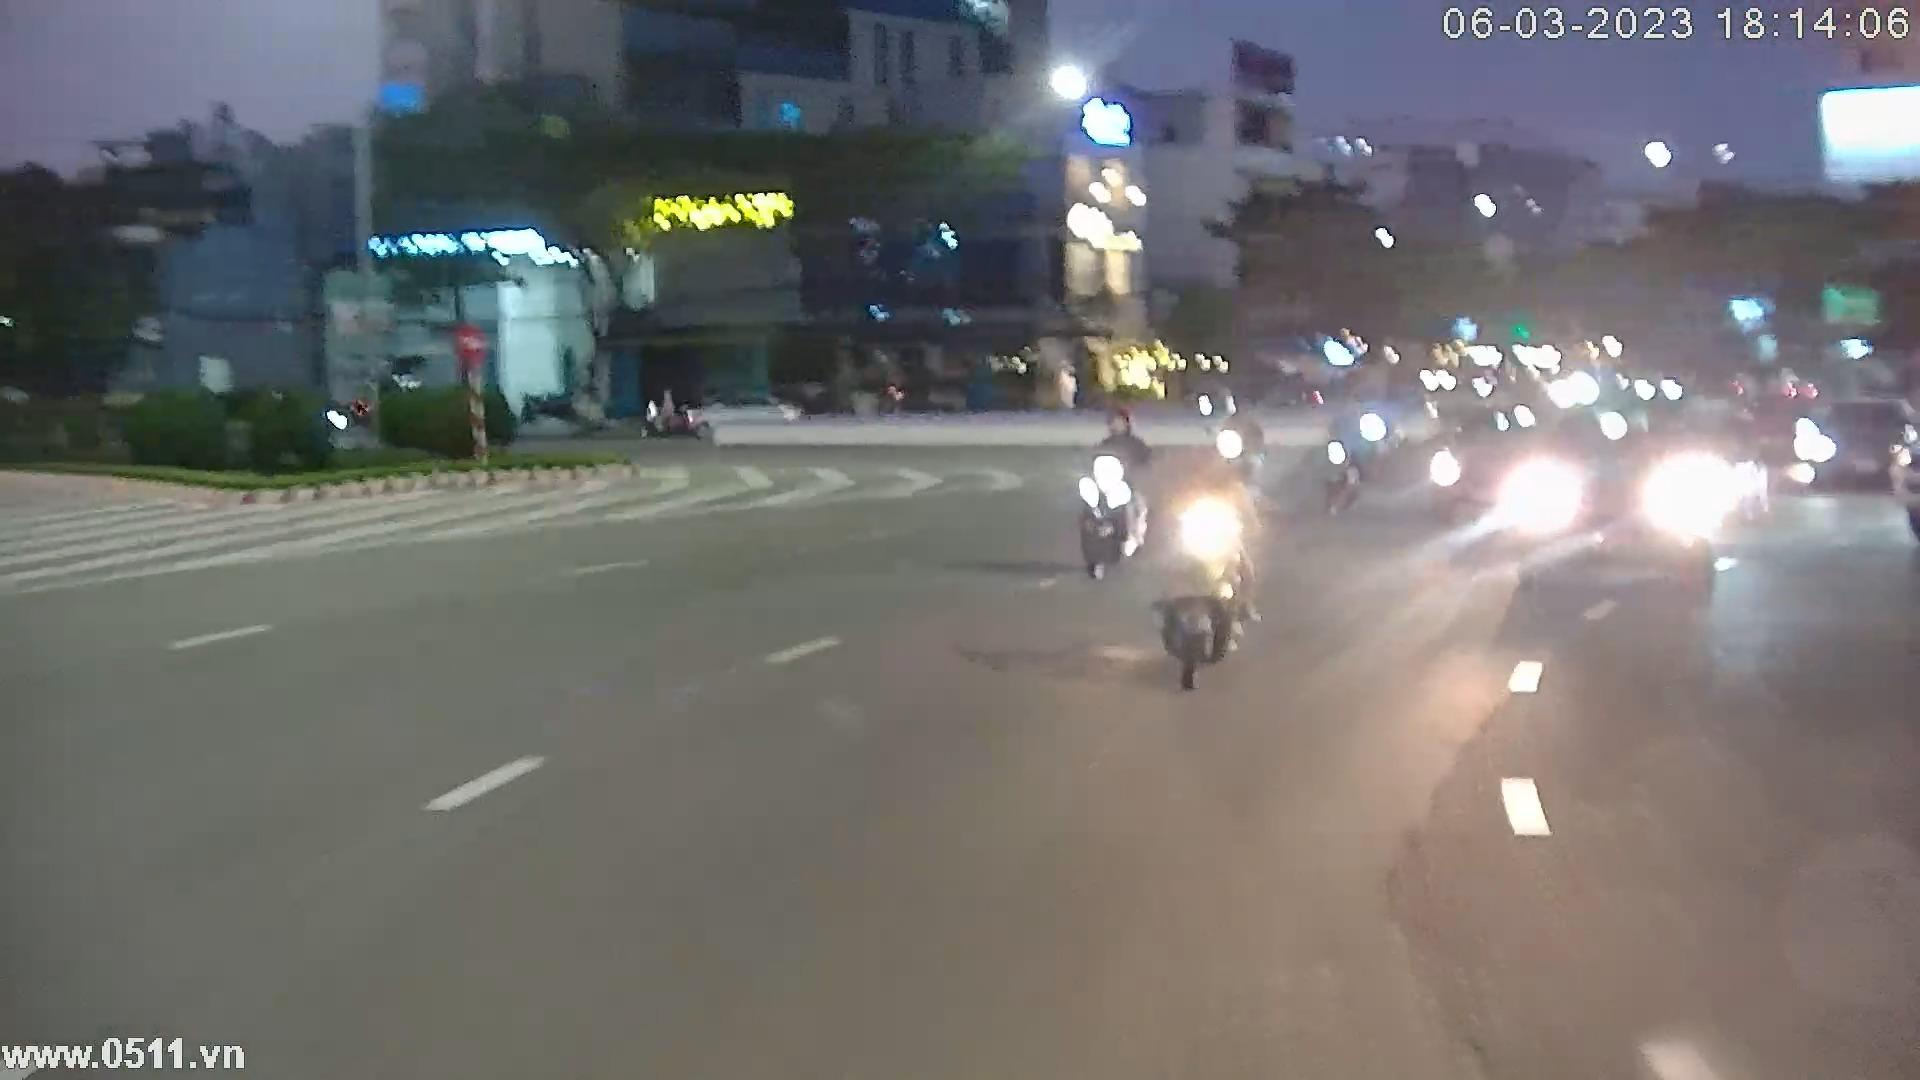car: (1511, 394, 1726, 609), (1788, 390, 1917, 496)
motorcycle: (1150, 430, 1265, 705), (1069, 401, 1158, 596)
